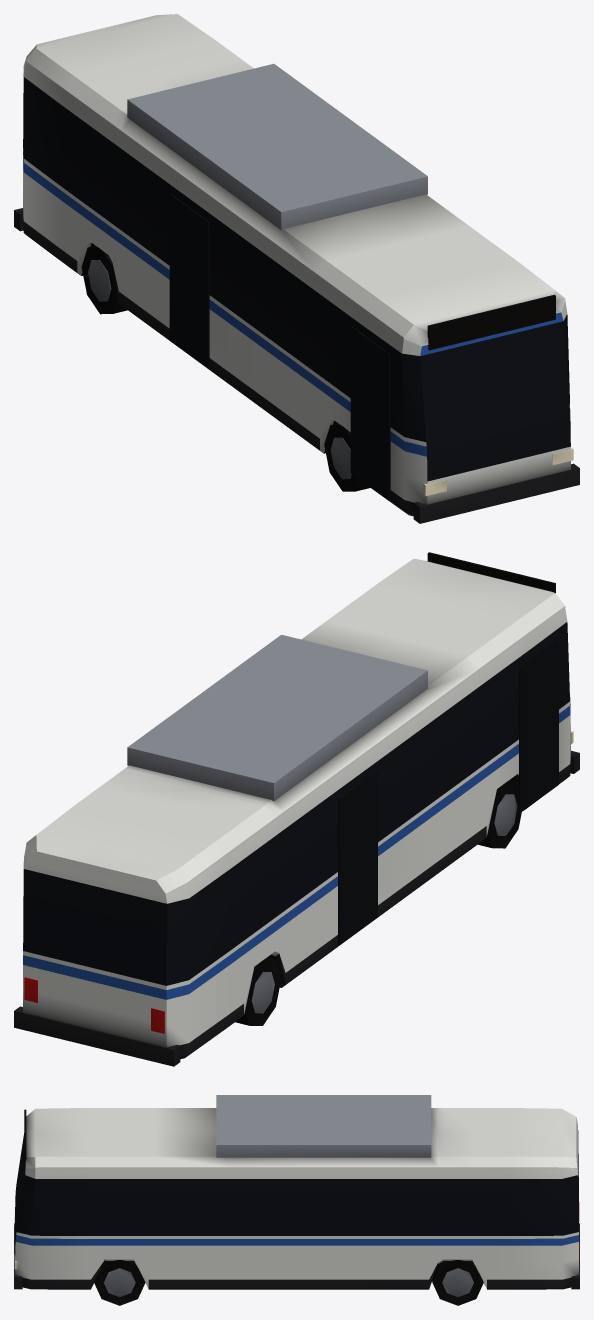
Rendered from prop.town.bus_lite.glb.
3 views of the same model, one above another, from view 1: azimuth 30°, elevation 25°; view 2: azimuth 150°, elevation 25°; view 3: azimuth 270°, elevation 25° (orthographic). The views are drawn at different scales.
Parts seen in each view (by area): view 1: v0_LOD0; view 2: v0_LOD0; view 3: v0_LOD0.
Boxes of the visible parts, left/top/right/bottom form: v0_LOD0: left=14, top=14, right=579, bottom=523; v0_LOD0: left=14, top=552, right=579, bottom=1066; v0_LOD0: left=14, top=1095, right=579, bottom=1305.
Bounding box in the file's own units: 2.52 × 3.25 × 10.54.
